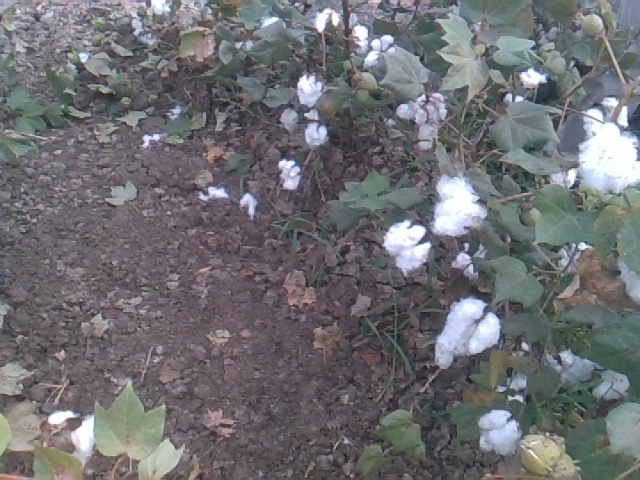cotton: (436, 296, 502, 372), (577, 122, 639, 196), (432, 174, 488, 238), (41, 409, 97, 470), (382, 218, 432, 273), (583, 95, 631, 144), (477, 409, 524, 457), (544, 349, 597, 389), (593, 358, 631, 409), (397, 92, 448, 123), (363, 33, 397, 73), (297, 73, 323, 108), (315, 6, 340, 41), (277, 157, 302, 191), (303, 122, 331, 150), (131, 17, 156, 48), (412, 123, 437, 153), (260, 16, 287, 43), (278, 106, 299, 135), (517, 66, 541, 91), (349, 24, 367, 55), (148, 1, 172, 17)
